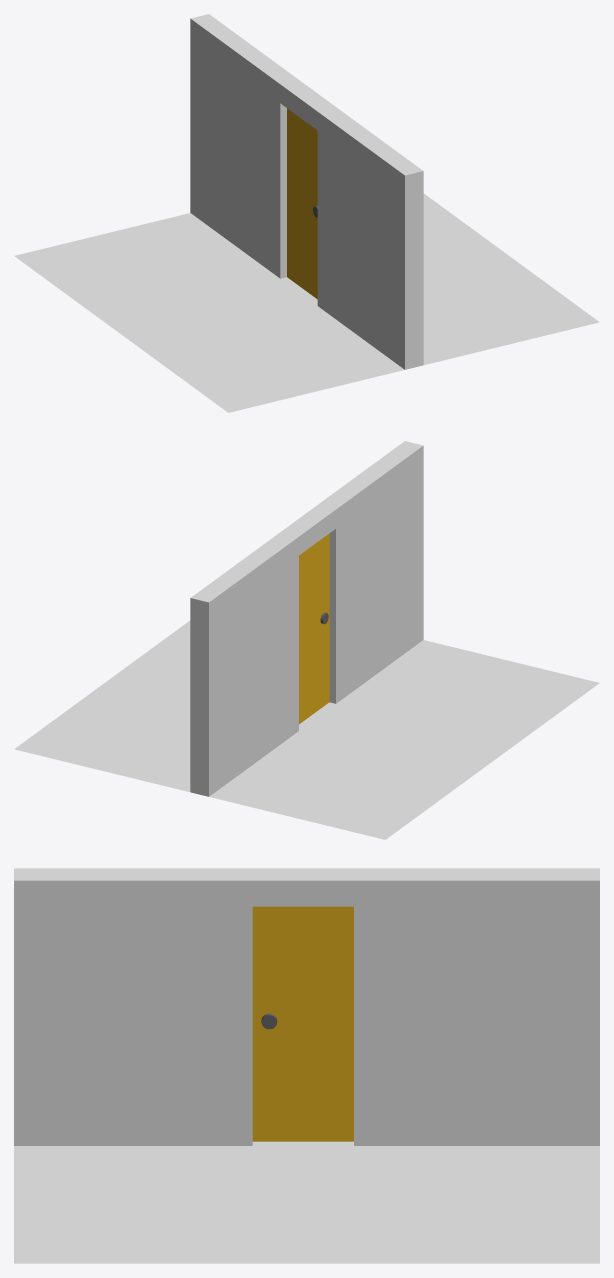
File: 7-open-door.glb
The picture shows the model from 3 angles, top to bottom: view 1: azimuth 30°, elevation 25°; view 2: azimuth 150°, elevation 25°; view 3: azimuth 270°, elevation 25°; orthographic projection. The views are drawn at different scales.
Visible parts, largest first — view 1: Plane, wall, door; view 2: Plane, wall, door; view 3: wall, Plane, door.
Boxes of the visible parts, x1,y1,x2,y2 form: Plane: (14,193,599,412); wall: (190,14,423,369); door: (287,108,317,299); Plane: (14,620,599,839); wall: (190,441,423,796); door: (299,533,329,724); wall: (14,868,599,1145); Plane: (14,1141,599,1263); door: (252,906,353,1141).
Bounding box in the file's own units: 2 × 1 × 2.
